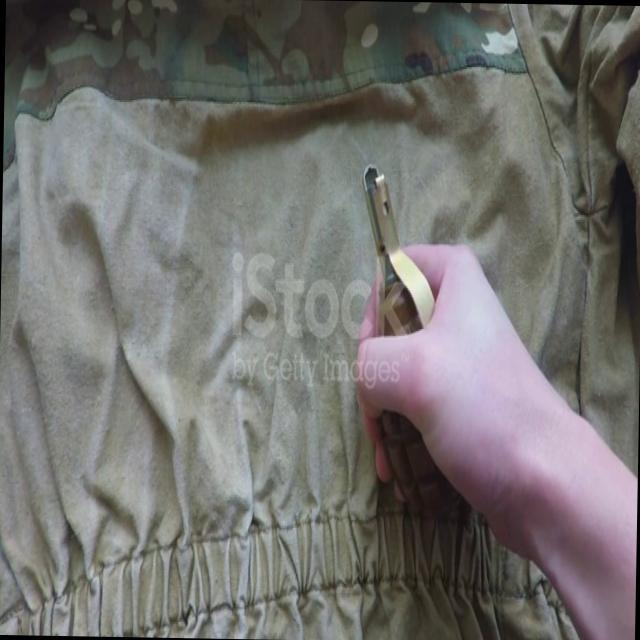grenade: (356, 164, 480, 522)
